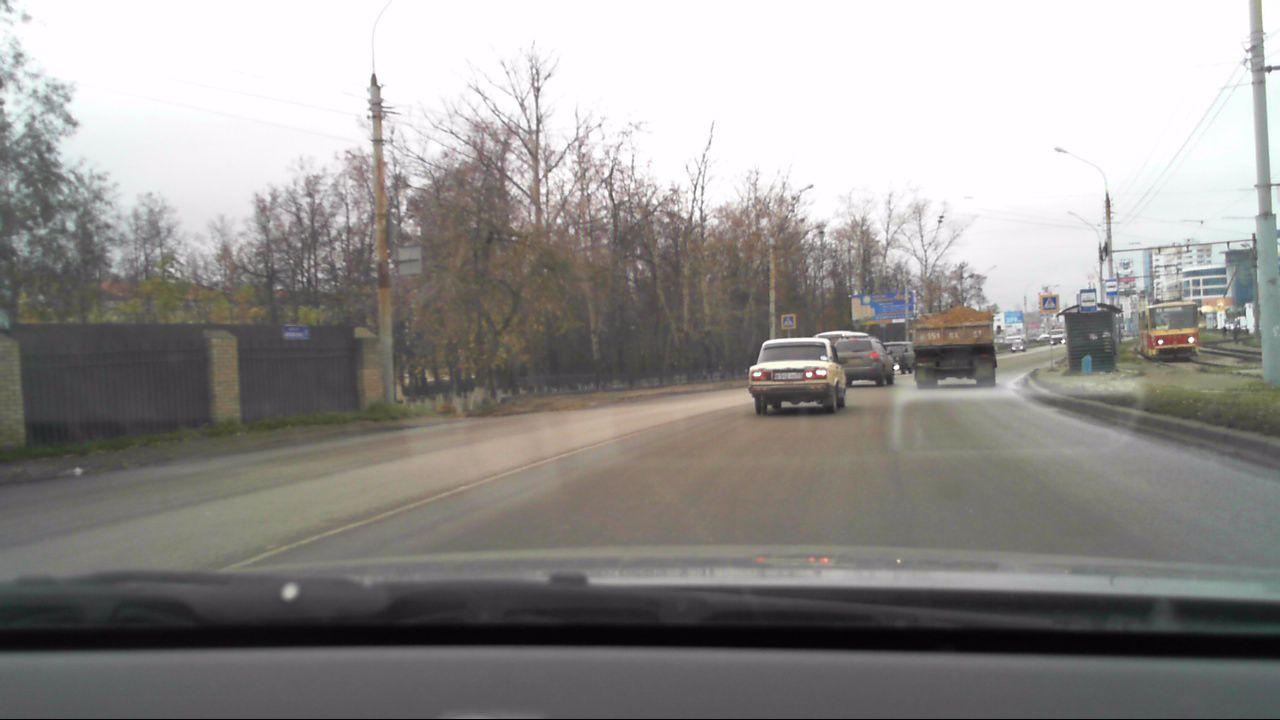5_16: (1104, 279, 1118, 298)
5_17: (1079, 290, 1097, 313)
5_19_1: (1042, 295, 1054, 309)
5_19_2: (783, 312, 795, 329)
